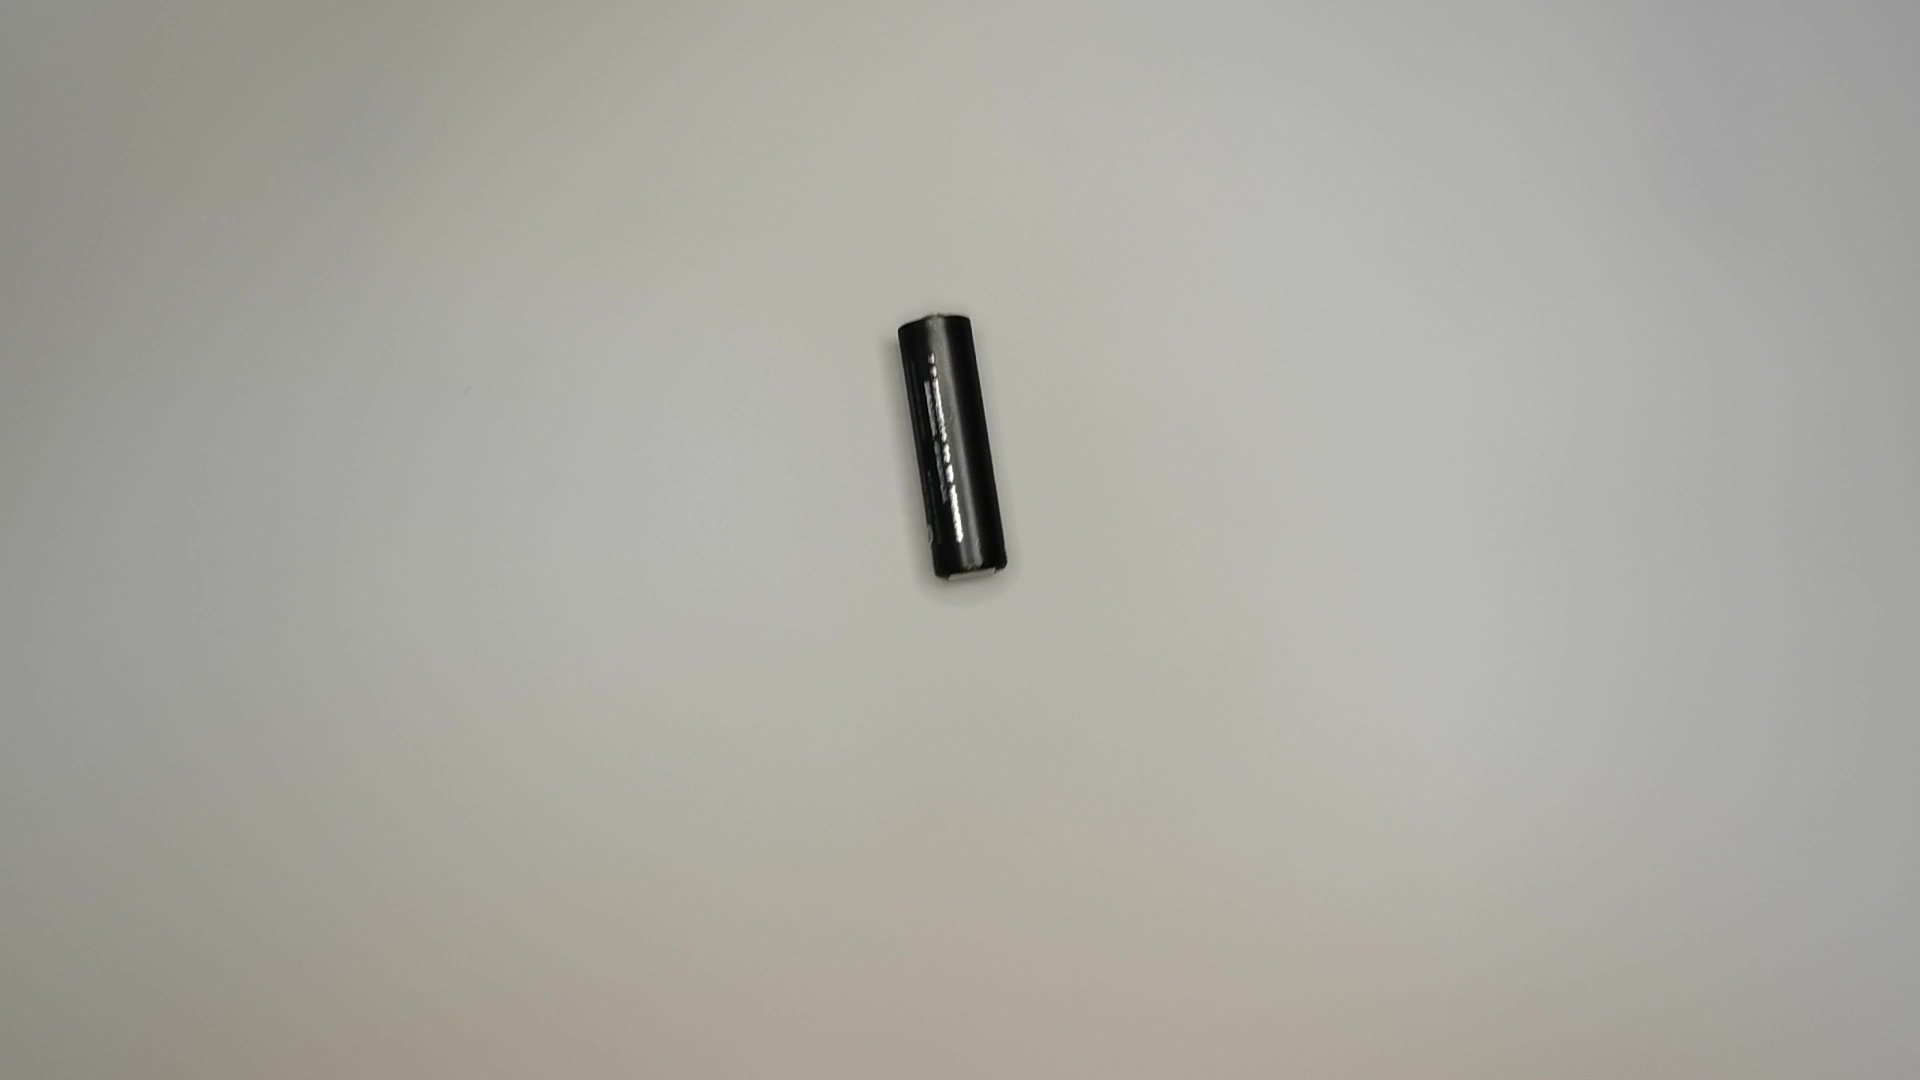battery: (886, 301, 1025, 593)
